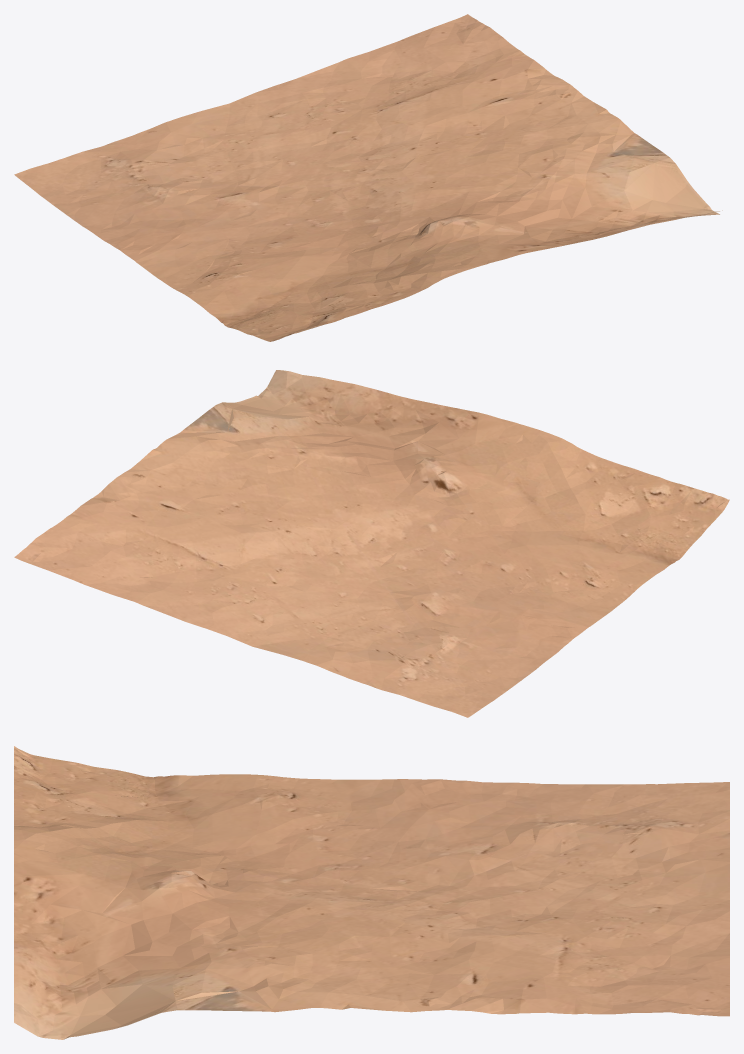
3 renders of one model, top to bottom at view 1: azimuth 30°, elevation 25°; view 2: azimuth 150°, elevation 25°; view 3: azimuth 270°, elevation 25°, orthographic. The views are drawn at different scales.
Size of the model in its own units: 2.09 by 0.2546 by 2.09.
Materials: 2 (2 with a texture image).
